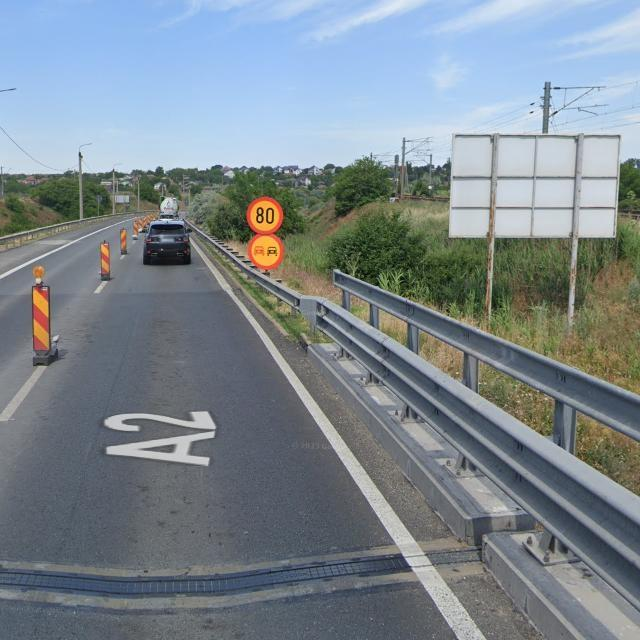forb_overtake: (248, 234, 284, 270)
forb_speed_over_80: (247, 197, 284, 235)
